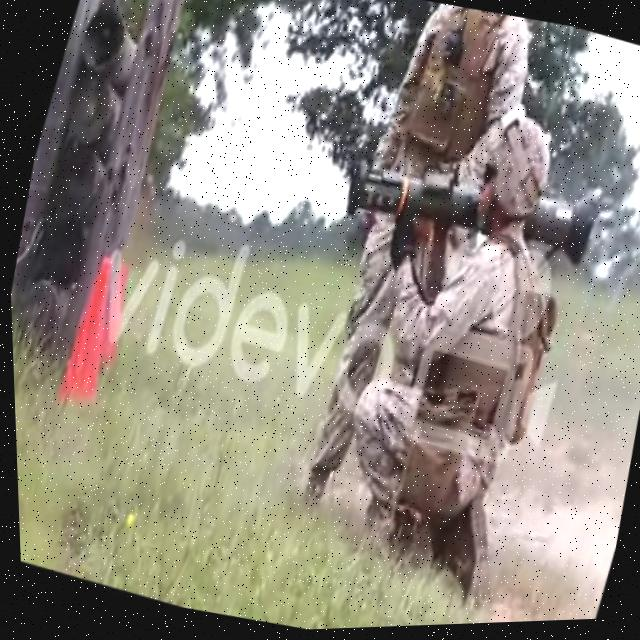rocket: (329, 120, 609, 301)
